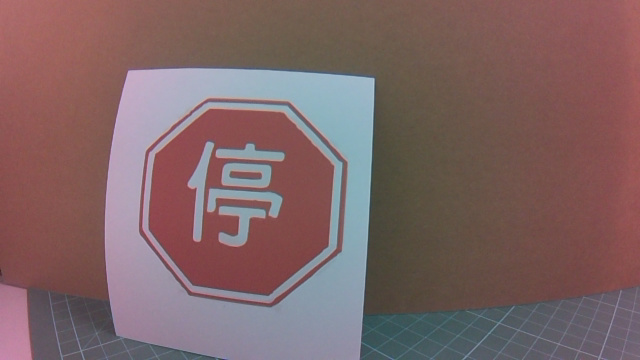stop: (150, 106, 336, 312)
